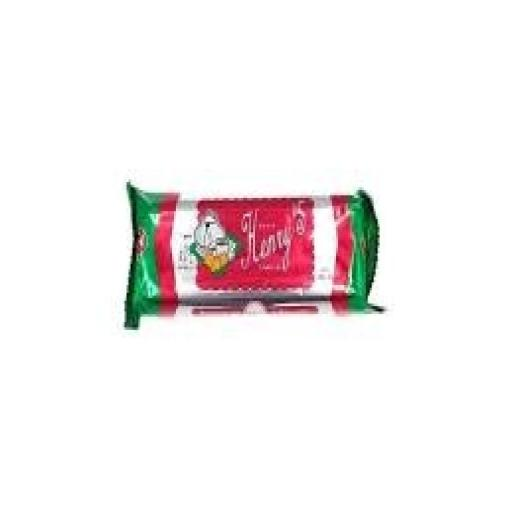golden: (122, 158, 418, 376)
